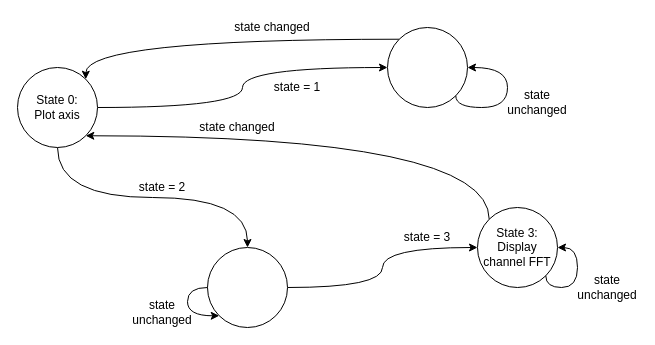
The diagram is 655 pixels wide and 345 high, and some of its shapes have lost their labels. The centre of each missing label's shape, as x and y in pixels:
State 1: Display AM band FFT: pixel 427 67
State 2: Channel selection: pixel 247 287
